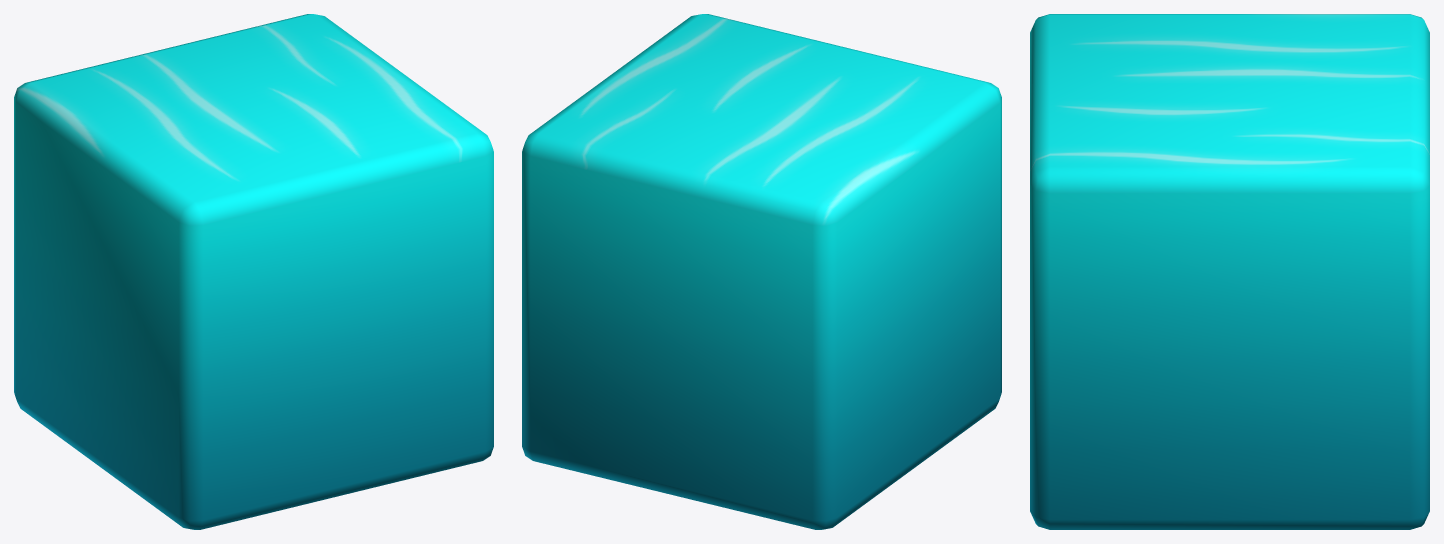
File: 3D_Tile_Water_01.glb
3 renders of one model, left to right at view 1: azimuth 30°, elevation 25°; view 2: azimuth 150°, elevation 25°; view 3: azimuth 270°, elevation 25°, orthographic. The views are drawn at different scales.
Visible parts, largest first — view 1: 3D_Tile_Water_01; view 2: 3D_Tile_Water_01; view 3: 3D_Tile_Water_01.
Boxes of the visible parts, left/top/right/bottom form: 3D_Tile_Water_01: left=14, top=14, right=493, bottom=529; 3D_Tile_Water_01: left=522, top=14, right=1001, bottom=529; 3D_Tile_Water_01: left=1030, top=14, right=1429, bottom=529.
Size of the model in its own units: 2 by 2 by 2.
1 material, 1 textured.
